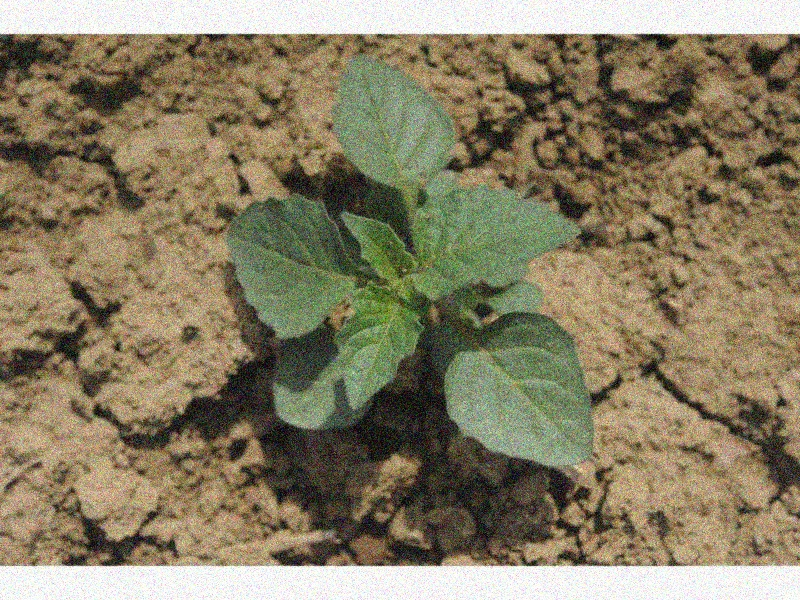nightshade: (224, 51, 593, 467)
